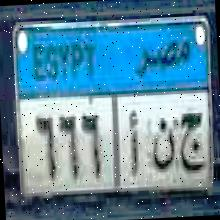6: (32, 108, 58, 186), (56, 107, 80, 185), (80, 108, 104, 182)
alif: (124, 106, 144, 183)
jeem: (176, 108, 208, 178)
noon: (148, 112, 176, 178)
